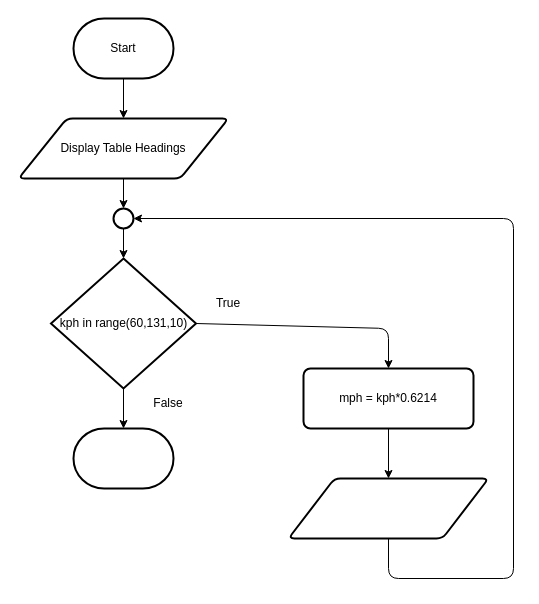
This 539x604 diagram has some shape labels left out. Each missing label, with the centre of its shape:
"Display the kph variable and the mph variable." belongs at pixel 388 508.
"End" belongs at pixel 123 458.
